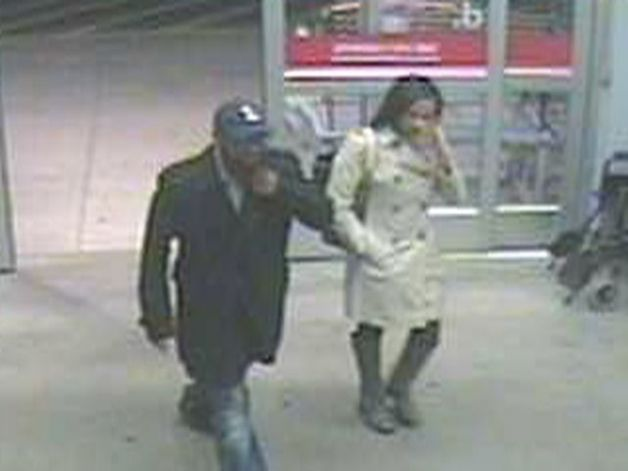Person: (132, 94, 327, 471), (326, 74, 476, 447)
